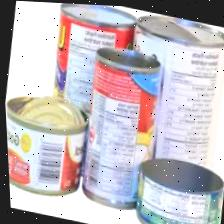metal: (107, 9, 224, 215), (32, 1, 142, 175), (69, 41, 171, 217), (4, 88, 95, 216), (125, 144, 220, 224)
